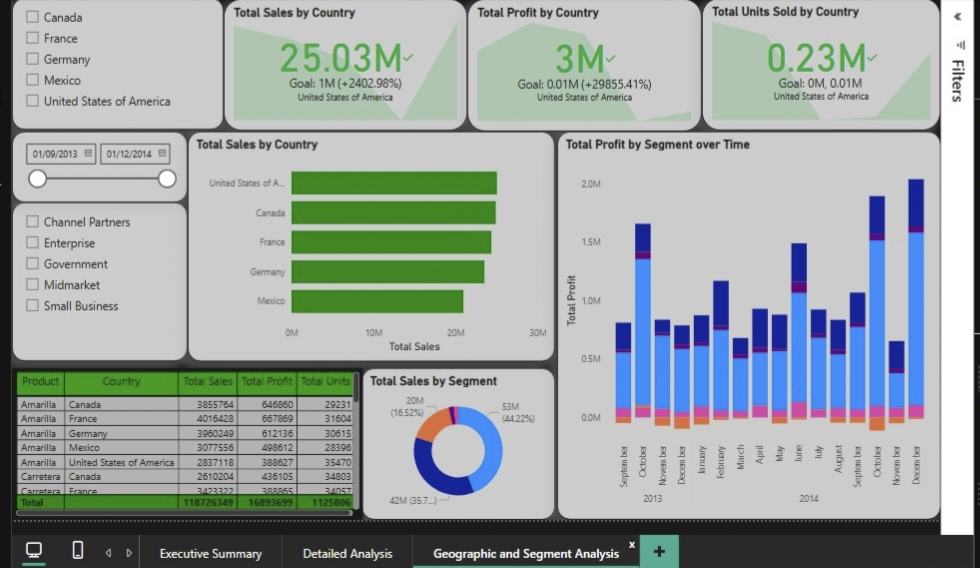

This screenshot's page, from the dashboard's own definition file:
{"tool":"powerbi","page":{"name":"Geographic and Segment Analysis","canvas":[1280,720],"ordinal":2},"visuals":[{"type":"kpi","title":"Total Sales  by Country","fields":{"TrendLine":["financials.Country"],"Goal":["financials.Sales Target"],"Indicator":["financials.Total Sales"]},"box":[291.8,1.4,335.8,181.7],"z":0},{"type":"kpi","title":"Total Profit by Country","fields":{"TrendLine":["financials.Country"],"Goal":["financials.Profit target"],"Indicator":["financials.Total Profit"]},"box":[627.6,1.4,323.4,183.1],"z":1000},{"type":"kpi","title":"Total Units Sold by Country","fields":{"TrendLine":["financials.Country"],"Goal":["financials.Unit Target","financials.Profit target"],"Indicator":["financials.Total Units"]},"box":[951.1,0,328.9,183.1],"z":2000},{"type":"slicer","fields":{"Values":["financials.Country"]},"box":[0,0,291.8,181.7],"z":3000},{"type":"slicer","fields":{"Values":["financials.Segment"]},"box":[0,282.2,242.2,218.8],"z":4000},{"type":"slicer","fields":{"Values":["financials.Date"]},"box":[0,184.4,242.2,97.7],"z":5000},{"type":"donutChart","fields":{"Y":["financials.Total Sales"],"Category":["financials.Segment"]},"box":[481.7,510.6,267,209.2],"z":6000},{"type":"clusteredBarChart","fields":{"Category":["financials.Country"],"Y":["financials.Total Sales"]},"box":[242.2,184.4,506.5,316.6],"z":7000},{"type":"columnChart","title":"Total Profit by Segment over Time","fields":{"Y":["financials.Total Profit"],"Series":["financials.Segment"],"Category":["financials.Date.Variation.Date Hierarchy.Year","financials.Date.Variation.Date Hierarchy.Month"]},"box":[751.5,184.4,528.5,535.4],"z":8000},{"type":"tableEx","fields":{"Values":["financials.Product","financials.Country","financials.Total Sales","financials.Total Profit","financials.Total Units"]},"box":[0,510.6,484.5,209.2],"z":9000}]}

Visuals, with their boxes in screenshot pixels (x1, y1, x2, y2):
"Total Sales  by Country" kpi: crop(220, 0, 465, 128)
"Total Profit by Country" kpi: crop(465, 0, 700, 129)
"Total Units Sold by Country" kpi: crop(700, 0, 940, 128)
slicer - financials.Country: crop(8, 0, 220, 127)
slicer - financials.Segment: crop(8, 200, 184, 360)
slicer - financials.Date: crop(8, 129, 184, 200)
donutChart - financials.Total Sales x financials.Segment: crop(358, 367, 553, 519)
clusteredBarChart - financials.Country x financials.Total Sales: crop(184, 129, 553, 360)
"Total Profit by Segment over Time" columnChart: crop(555, 129, 940, 519)
tableEx - financials.Product x financials.Country: crop(8, 367, 361, 519)
